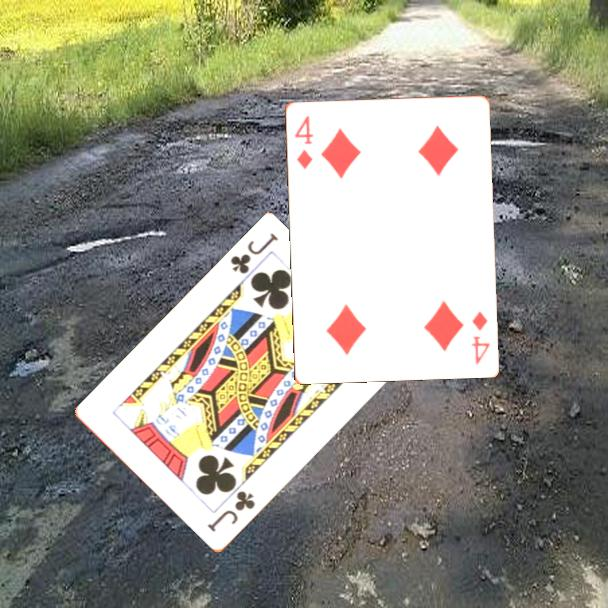c11: (204, 487, 258, 536), (227, 230, 281, 277)
d04: (291, 112, 316, 172), (468, 307, 492, 367)
